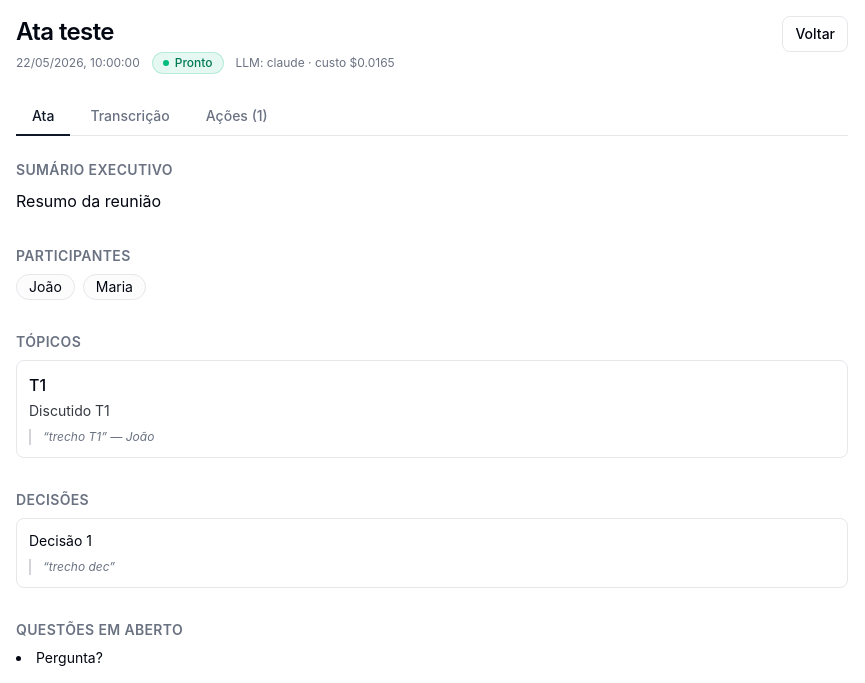
Test: MeetingDetailPage › aba Ações mostra action_items
The image size is (865, 683).
expect the heading "Ata teste" is shown: met, box x1=16 y1=17 x2=114 y2=46
What coordinates should you click on to do the following:
click the button "Ações (1)"
I would click on:
 (237, 117)
Its box is x1=190 y1=98 x2=284 y2=136.
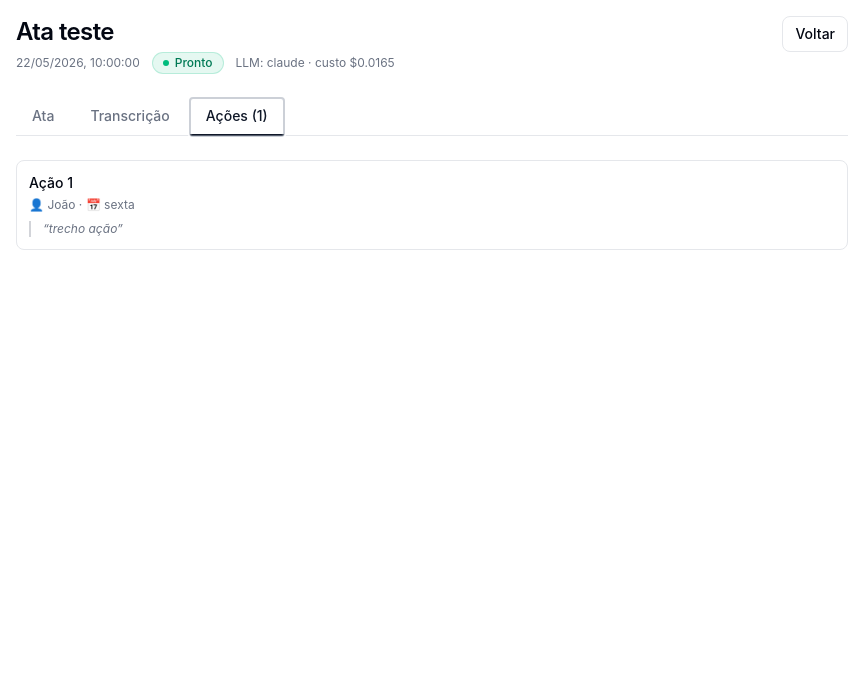
expect the text "Ação 1" is shown: met, box x1=29 y1=174 x2=73 y2=191
